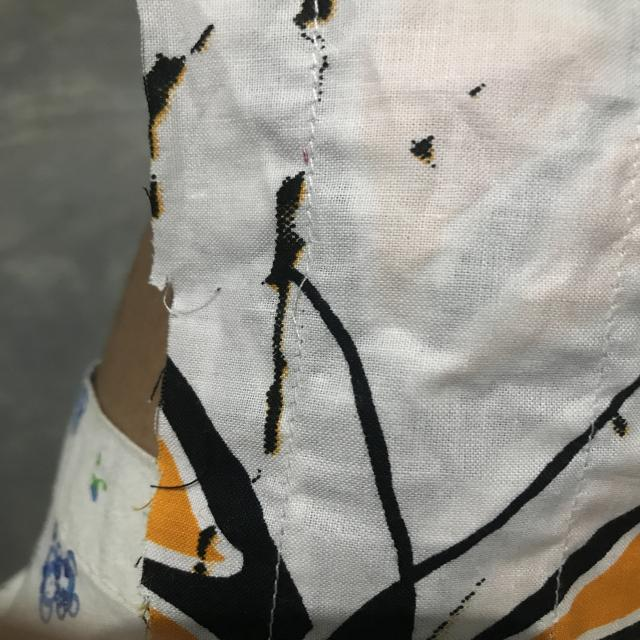skip: (282, 268, 329, 358)
